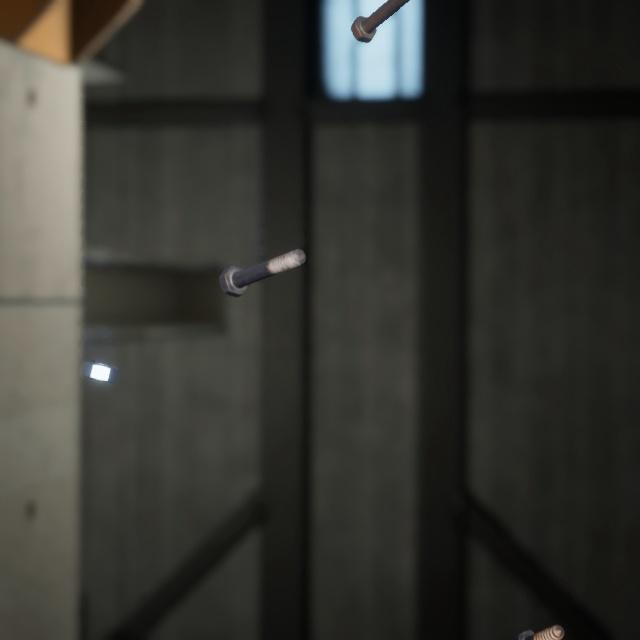bolt: (214, 226, 310, 284), (509, 596, 568, 640), (346, 0, 407, 41)
nut: (77, 337, 123, 368)
